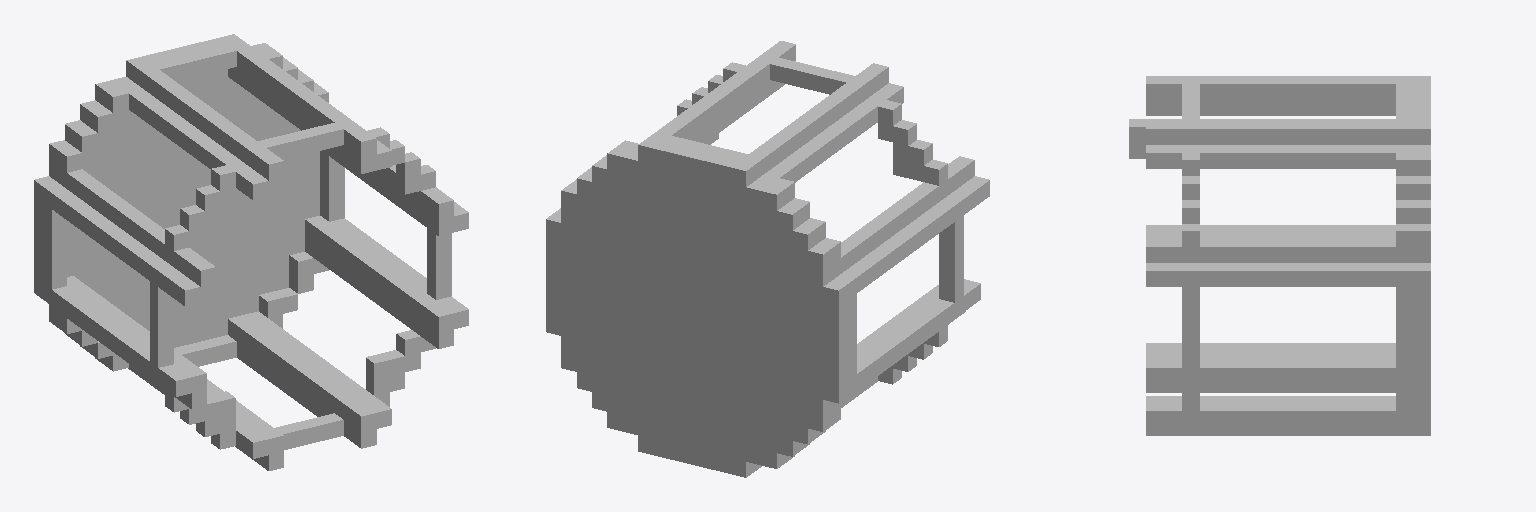
The model's file is Package Barrel.obj.
3 views of the same model, side by side, from view 1: azimuth 30°, elevation 25°; view 2: azimuth 150°, elevation 25°; view 3: azimuth 270°, elevation 25° (orthographic).
Parts seen in each view (by area): view 1: object 1; view 2: object 1; view 3: object 1.
Boxes of the visible parts, x1=… form: object 1: x1=34, y1=34, x2=468, y2=470; object 1: x1=546, y1=41, x2=989, y2=477; object 1: x1=1129, y1=76, x2=1430, y2=435.
Size of the model in its own units: 1.9 by 1.9 by 1.7.